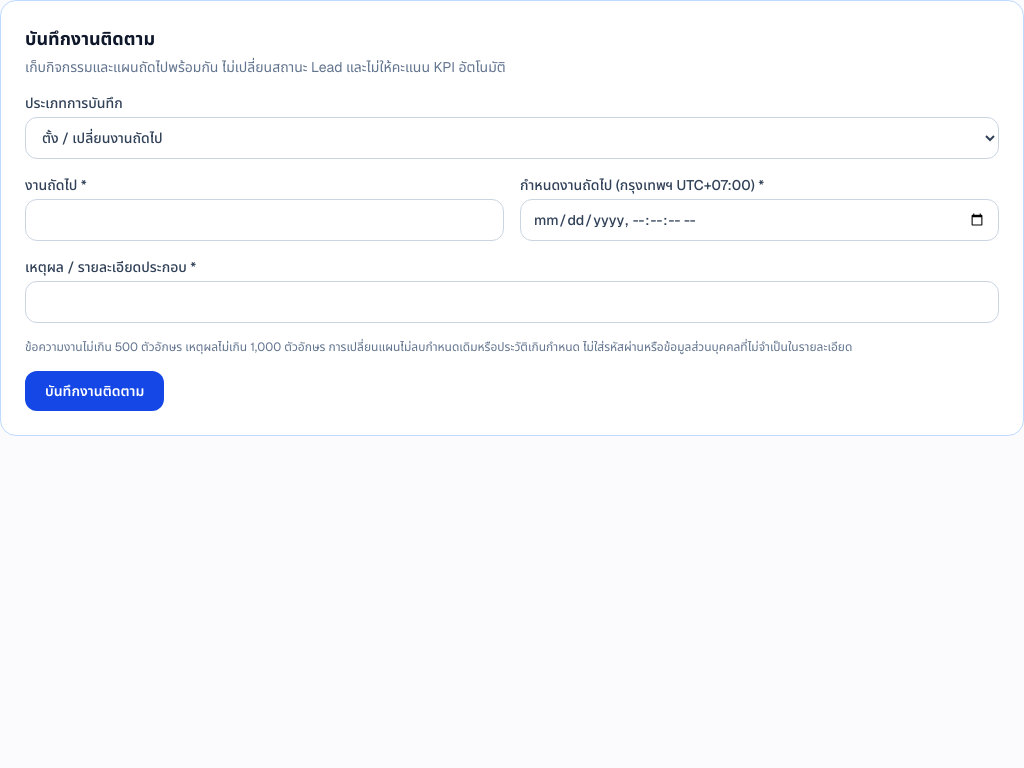
Test: lead work form safety › never discards earlier uncertainty after retry FORBIDDEN
Type "โทรติดตาม" into the field labelled "งานถัดไป *" at (264, 220), box [25,199,504,241]
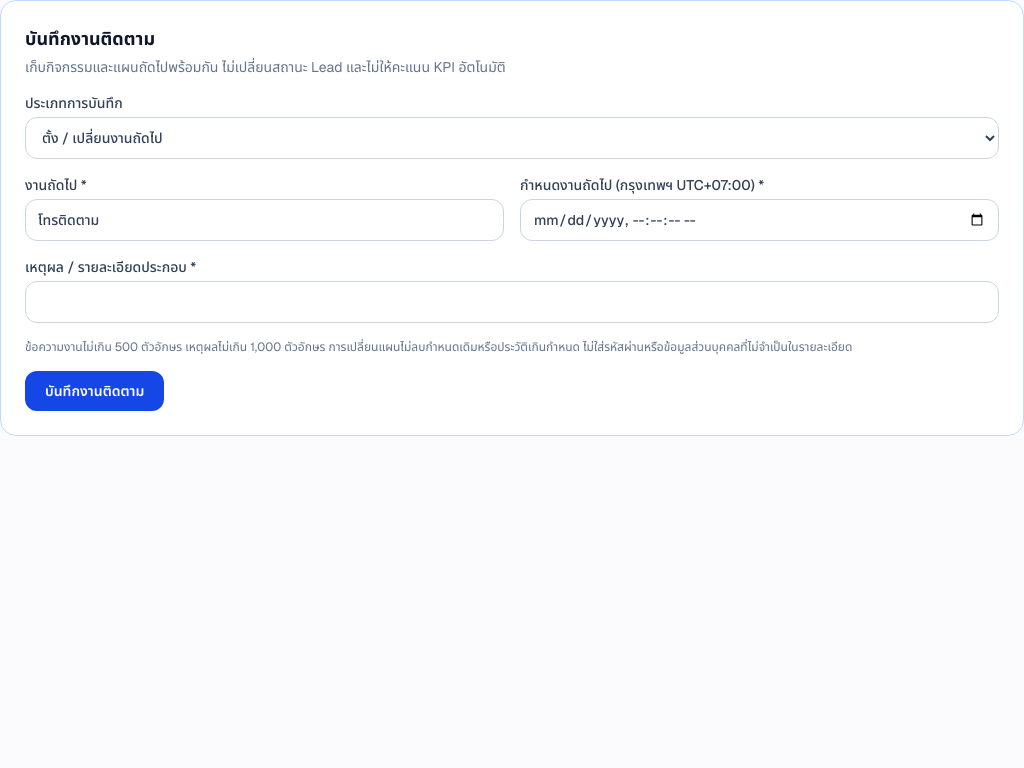
Type "2026-09-18T09:45:32" into the field labelled "กำหนดงานถัดไป (กรุงเทพฯ UTC+07:00) *" at (760, 220), box [520,199,999,241]
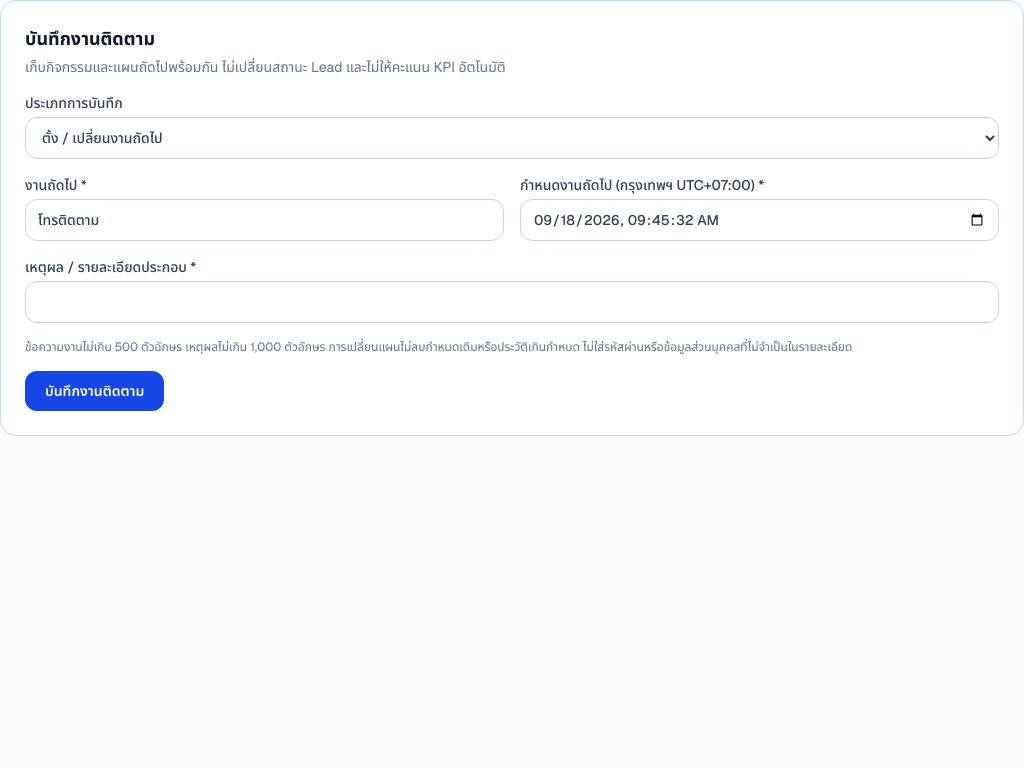
Type "ลูกค้าขอนัดใหม่" into the field labelled "เหตุผล / รายละเอียดประกอบ *" at (512, 302), box [25,281,999,323]
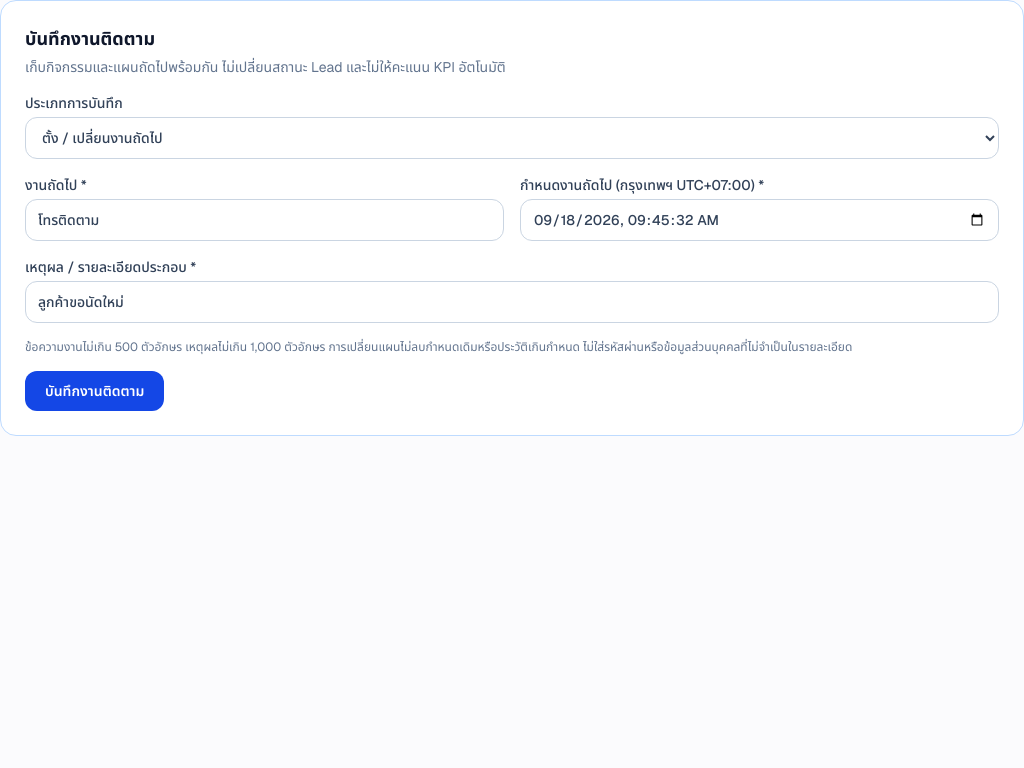
Submit the form named "บันทึกงานติดตาม Lead", box [25,93,999,411]
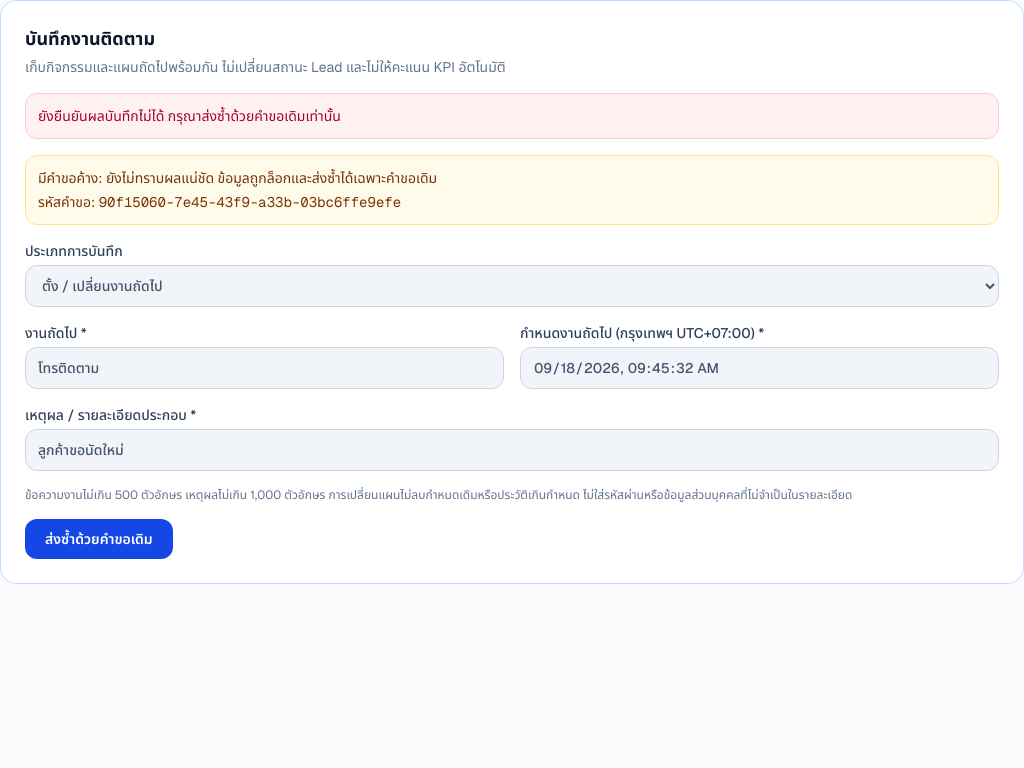
Result: the button "ส่งซ้ำด้วยคำขอเดิม" is shown at [25,519,173,559]
Submit the form named "บันทึกงานติดตาม Lead", box [25,241,999,559]
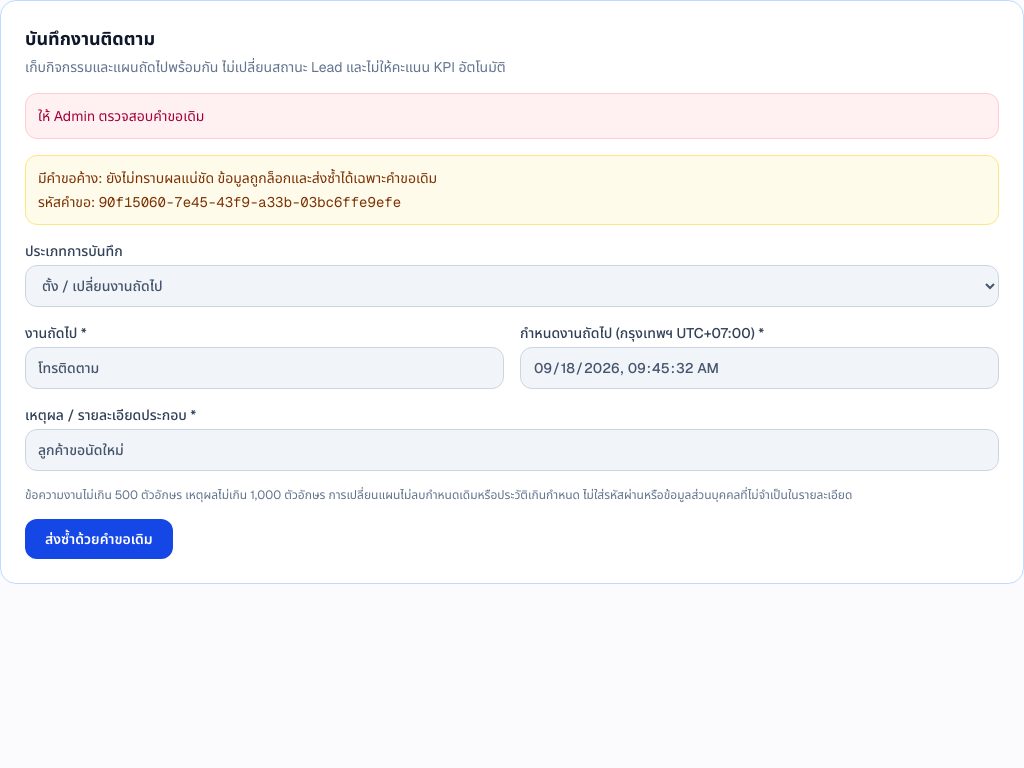
Expected: the field labelled "งานถัดไป *" is disabled, [25,347,504,389]
Result: the text "ให้ Admin ตรวจสอบคำขอเดิม" is shown at [25,93,999,139]
